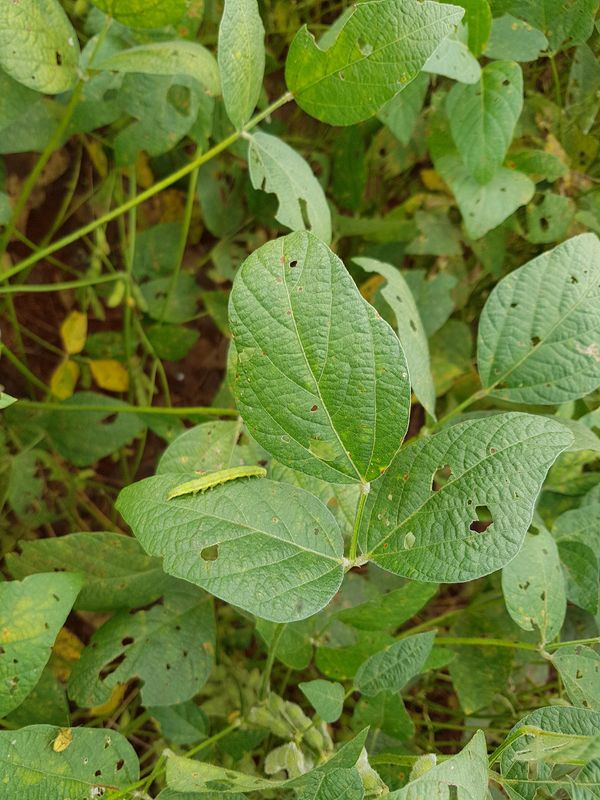Anticarsia_gemmatalis: (160, 458, 272, 510)
Euschistus_heros_ninfa: (45, 715, 80, 758)
